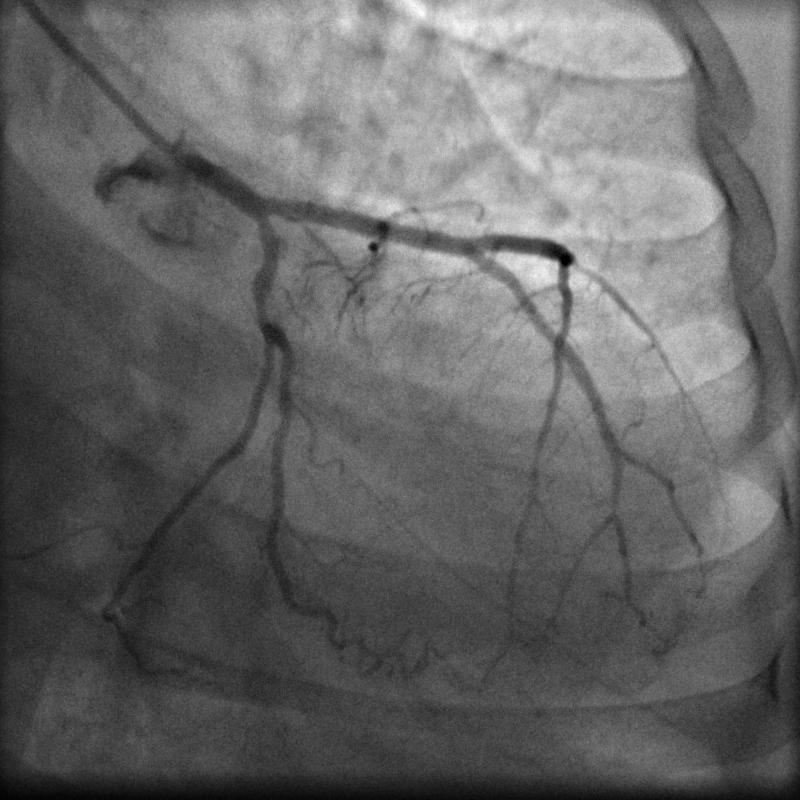Stenosis: (245, 281, 289, 333)
